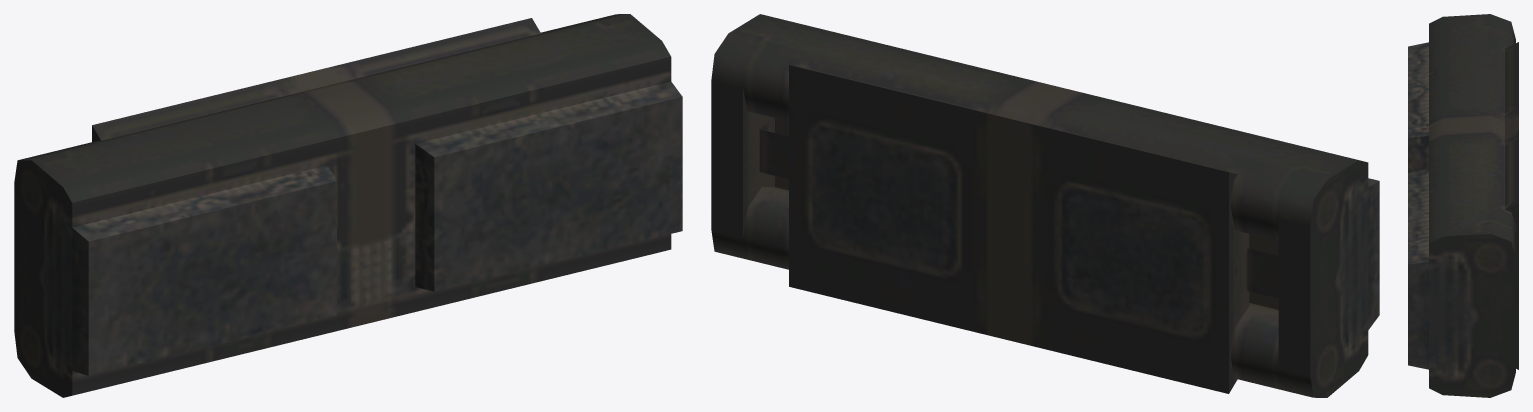
3 views of the same model, side by side, from view 1: azimuth 30°, elevation 25°; view 2: azimuth 150°, elevation 25°; view 3: azimuth 270°, elevation 25° (orthographic). The views are drawn at different scales.
Parts seen in each view (by area): view 1: set_0_group_0; view 2: set_0_group_0; view 3: set_0_group_0.
Part boxes in pixels (x1,y1,x2,y2): set_0_group_0: (14, 14, 682, 397); set_0_group_0: (711, 14, 1379, 397); set_0_group_0: (1408, 14, 1518, 397).
Bounding box in the file's own units: 0.3759 × 0.133 × 0.0801.
Materials: 1 (1 with a texture image).
